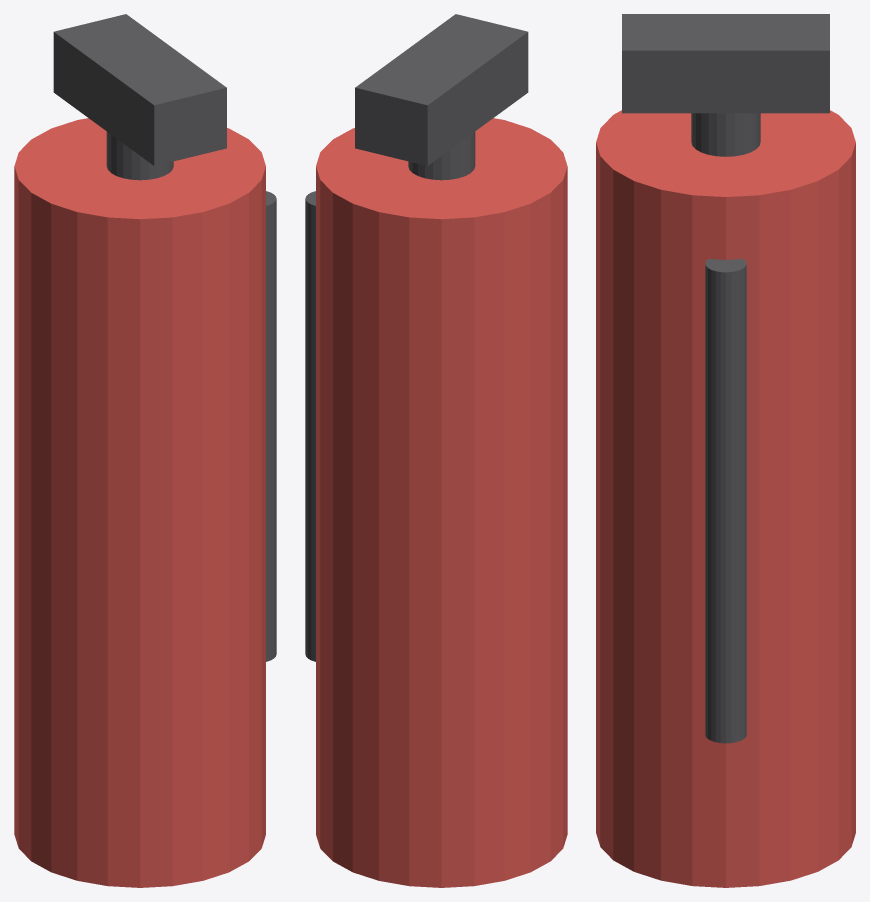
Rendered from fire_extinguisher-PRIM-001.glb.
3 renders of one model, left to right at view 1: azimuth 30°, elevation 25°; view 2: azimuth 150°, elevation 25°; view 3: azimuth 270°, elevation 25°, orthographic. The views are drawn at different scales.
Parts seen in each view (by area): view 1: p0, p2, p3, p1; view 2: p0, p2, p3, p1; view 3: p0, p2, p3, p1.
Part boxes in pixels (x1,y1,x2,y2): p0: (14,118,265,887); p2: (53,14,226,165); p3: (266,191,276,661); p1: (106,45,173,180); p0: (316,118,567,887); p2: (355,14,528,165); p3: (305,191,315,661); p1: (408,45,475,180); p0: (596,110,855,887); p2: (622,14,829,113); p3: (705,259,746,743); p1: (691,17,760,156).
Size of the model in its own units: 0.167 by 0.51 by 0.15.
